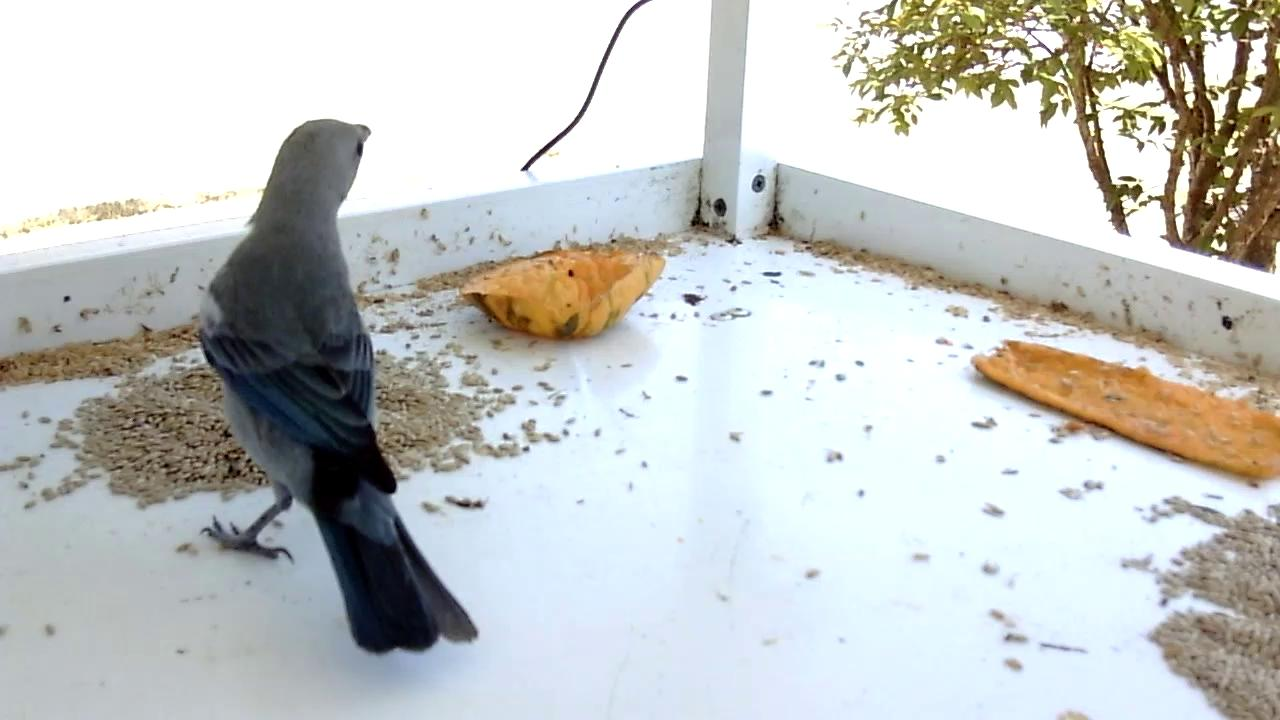sanhaco_da_amazonia: (197, 119, 479, 654)
